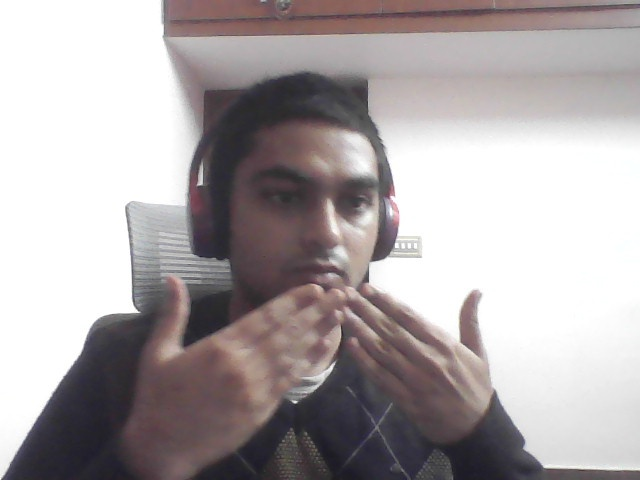Thank You: (117, 269, 514, 449)
